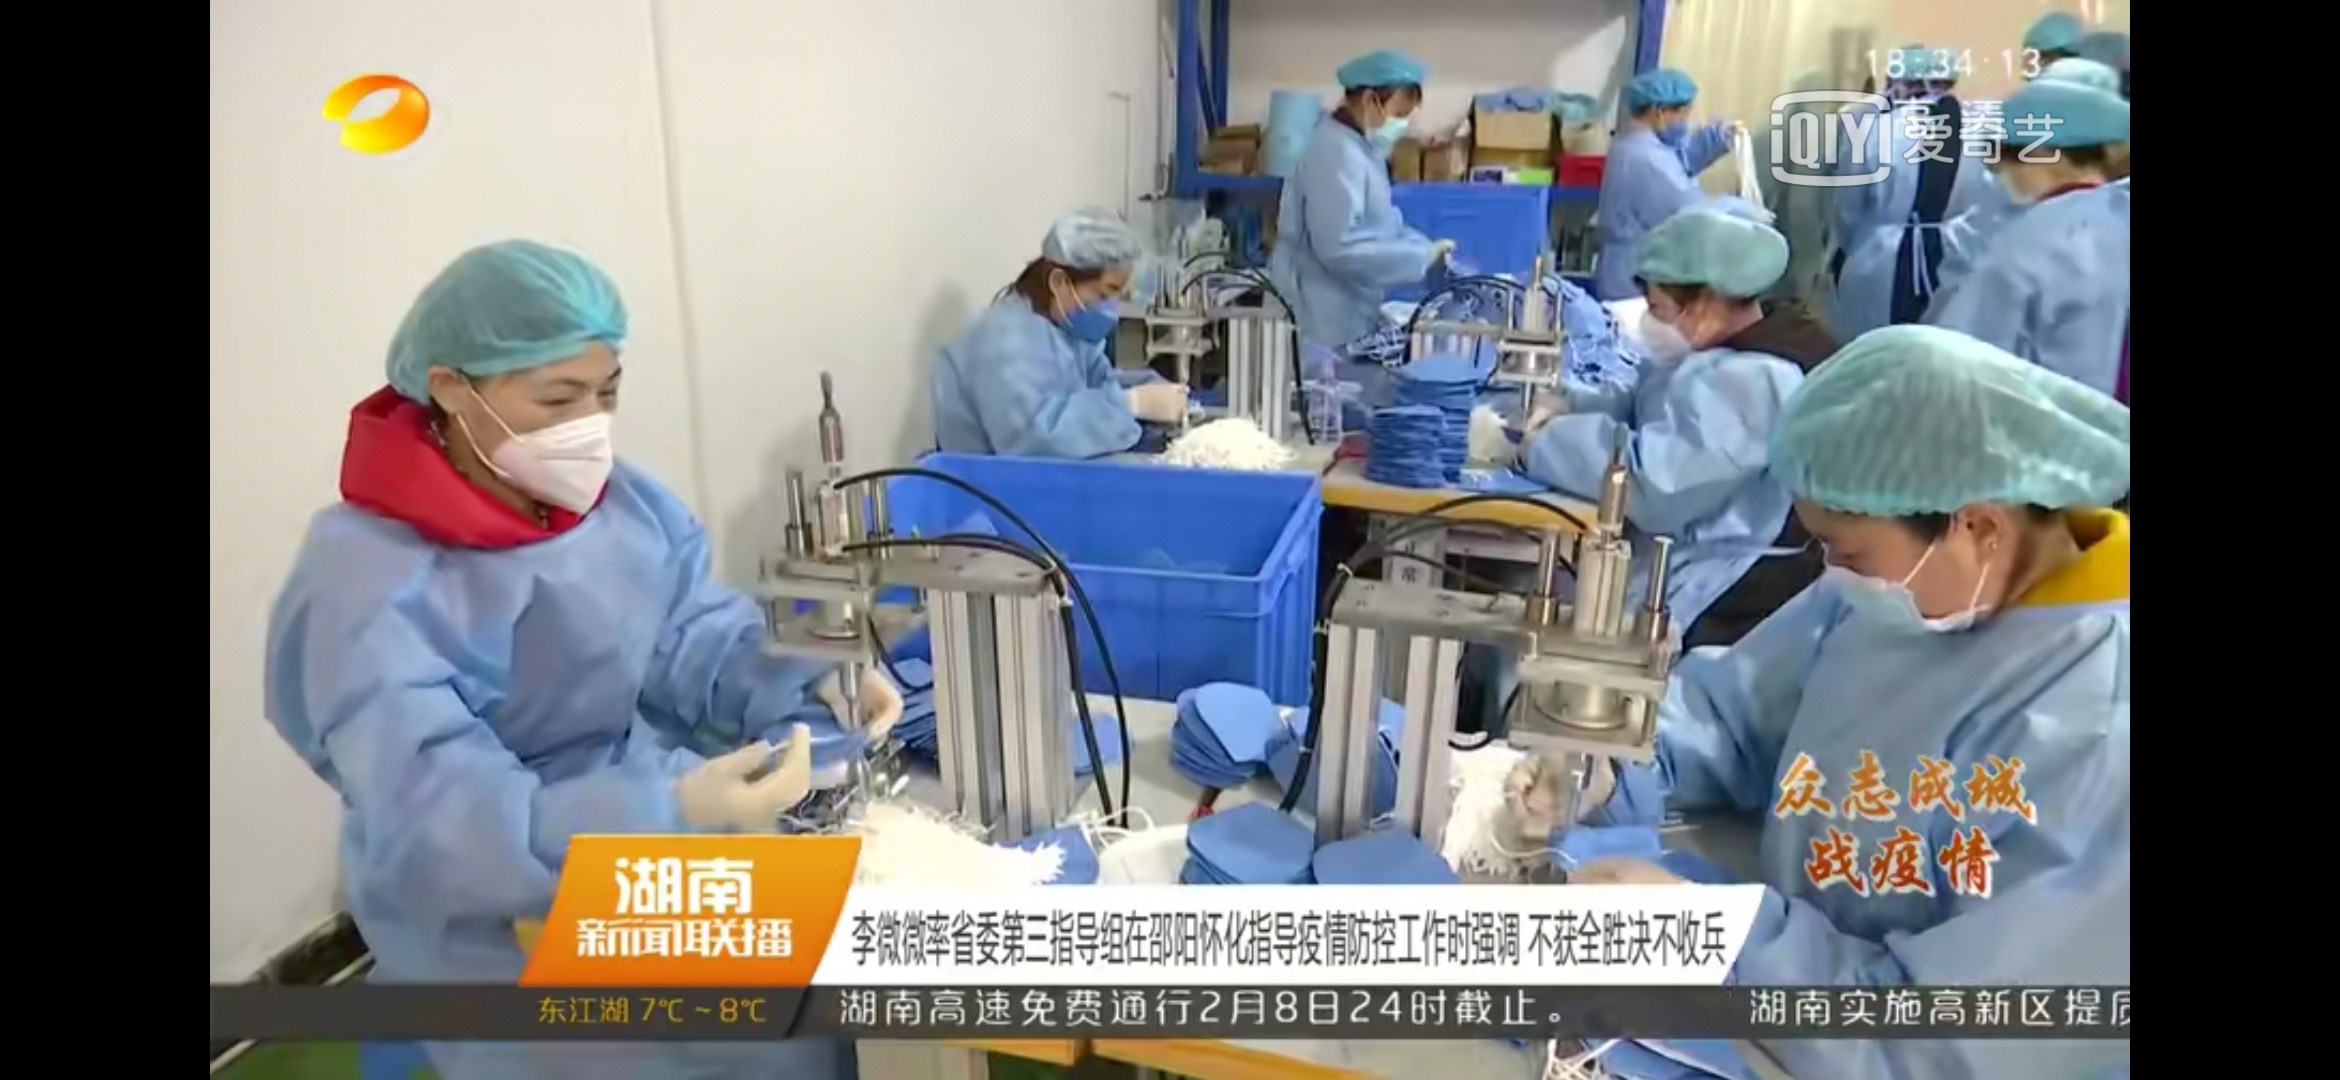correctlyWear: (1788, 452, 2018, 632), (427, 339, 631, 518), (1625, 263, 1730, 360), (1043, 248, 1139, 342), (1349, 78, 1427, 154), (1631, 85, 1709, 148)
